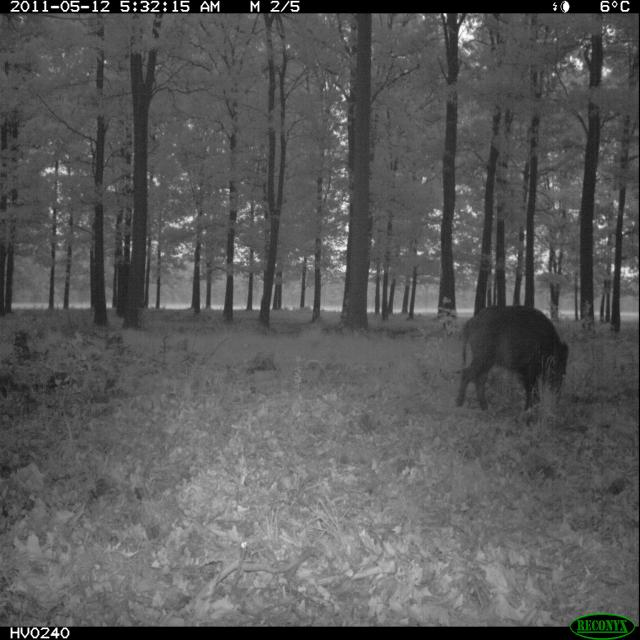boar: (434, 292, 588, 435)
